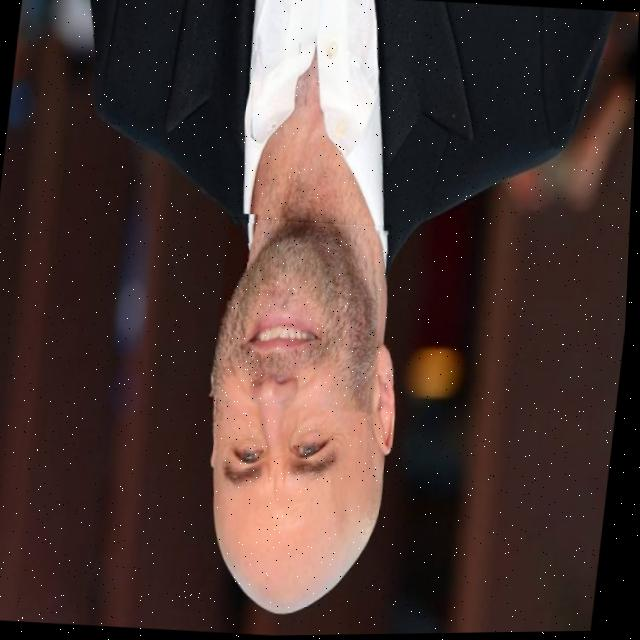beard: (214, 222, 381, 412)
